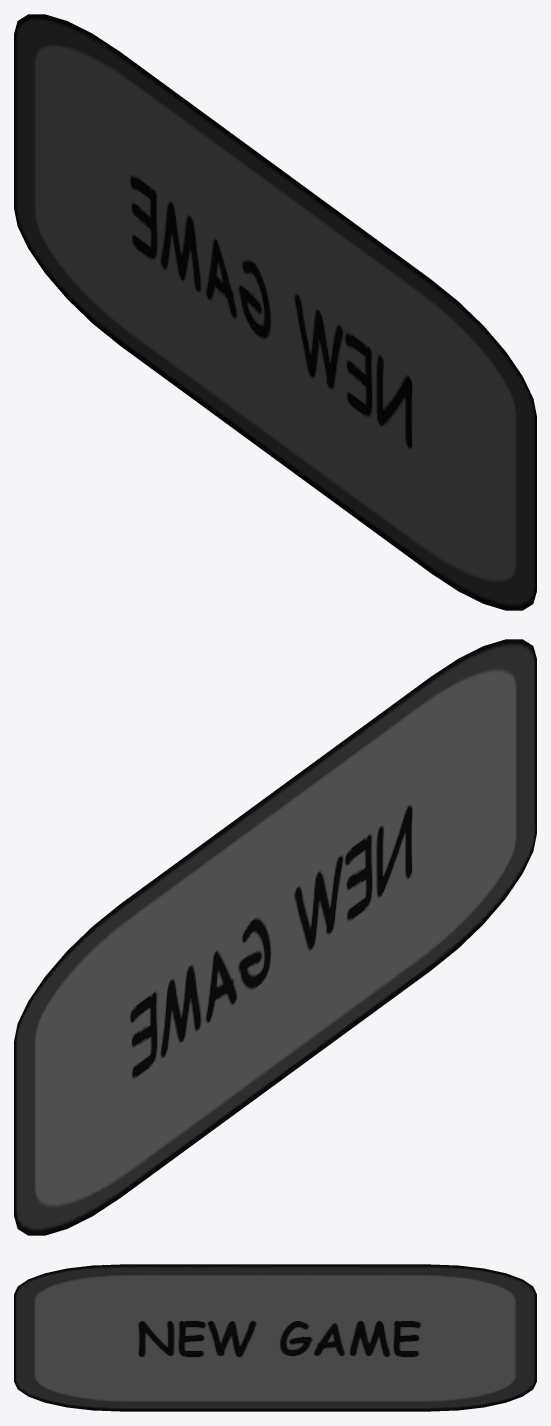
Rendered from selectbar.fbx.
The picture shows the model from 3 angles, top to bottom: view 1: azimuth 30°, elevation 25°; view 2: azimuth 150°, elevation 25°; view 3: azimuth 270°, elevation 25°; orthographic projection. The views are drawn at different scales.
Parts seen in each view (by area): view 1: MENUSELECT; view 2: MENUSELECT; view 3: MENUSELECT.
Part boxes in pixels (box(x1,y1,x2,y2)): MENUSELECT: box(14, 14, 536, 610); MENUSELECT: box(14, 639, 536, 1235); MENUSELECT: box(14, 1264, 536, 1411).
Size of the model in its own units: 1.04e-05 by 137 by 442.
1 material, 1 textured.
